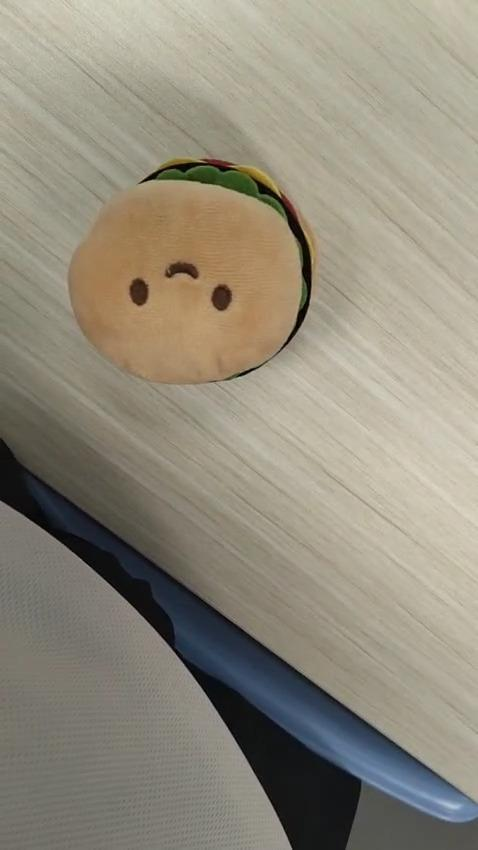hamburger: (69, 156, 315, 390)
